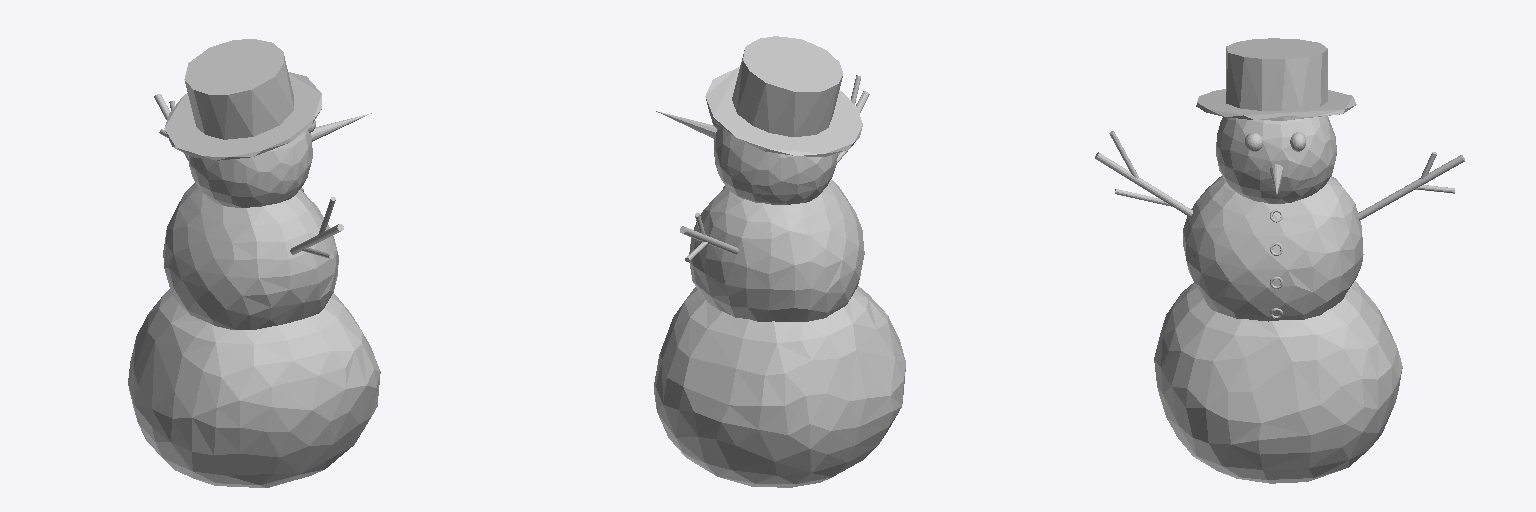
Rendered from snowman.obj.
The picture shows the model from 3 angles: view 1: azimuth 30°, elevation 25°; view 2: azimuth 150°, elevation 25°; view 3: azimuth 270°, elevation 25°; orthographic projection.
Visible parts, largest first — view 1: Sphere.017, Sphere.016, Cylinder.030, Sphere.015, Cylinder.031; view 2: Sphere.017, Sphere.016, Cylinder.030, Sphere.015, Cylinder.031; view 3: Sphere.017, Sphere.016, Sphere.015, Cylinder.030, Cylinder.031, Cylinder.024, Cylinder.028.
Part boxes in pixels (x1,y1,x2,y2): Sphere.017: (128,289,380,487); Sphere.016: (163,182,338,329); Cylinder.030: (184,39,293,139); Sphere.015: (189,129,312,207); Cylinder.031: (164,72,321,160); Sphere.017: (654,286,905,487); Sphere.016: (689,180,864,321); Cylinder.030: (732,36,842,136); Sphere.015: (714,126,837,204); Cylinder.031: (705,67,862,156); Sphere.017: (1154,281,1402,483); Sphere.016: (1183,176,1363,321); Sphere.015: (1216,116,1336,203); Cylinder.030: (1226,38,1327,110); Cylinder.031: (1196,89,1356,120); Cylinder.024: (1357,155,1464,220); Cylinder.028: (1095,152,1192,216).
Size of the model in its own units: 2.48 by 4.27 by 3.47.